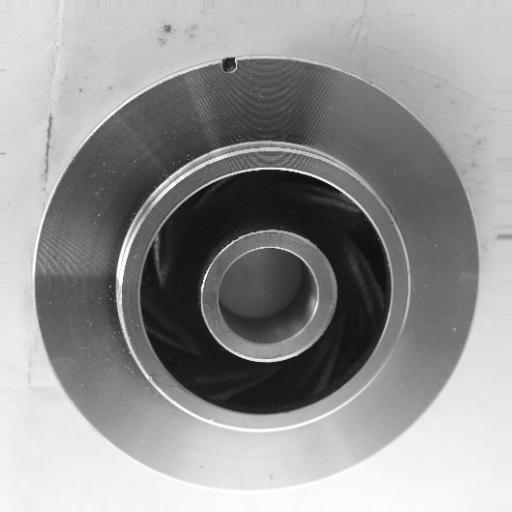pit: (205, 49, 257, 86)
unpolished_casting: (30, 50, 478, 494)
